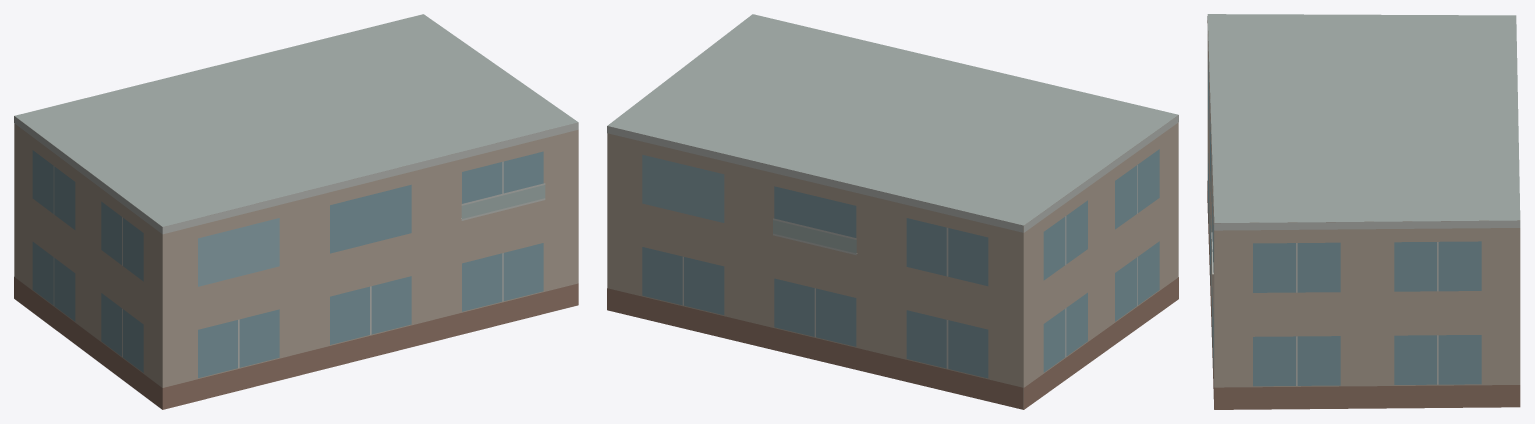
The model's file is survey-upis-32888907.glb.
3 renders of one model, left to right at view 1: azimuth 30°, elevation 25°; view 2: azimuth 150°, elevation 25°; view 3: azimuth 270°, elevation 25°, orthographic. The views are drawn at different scales.
Parts seen in each view (by area): view 1: survey-upis-32888907.tmp; view 2: survey-upis-32888907.tmp; view 3: survey-upis-32888907.tmp.
Boxes of the visible parts, x1,y1,x2,y2 form: survey-upis-32888907.tmp: (14, 14, 578, 409); survey-upis-32888907.tmp: (607, 14, 1178, 409); survey-upis-32888907.tmp: (1207, 14, 1520, 409).
Bounding box in the file's own units: 14.65 × 6.1 × 9.27.
